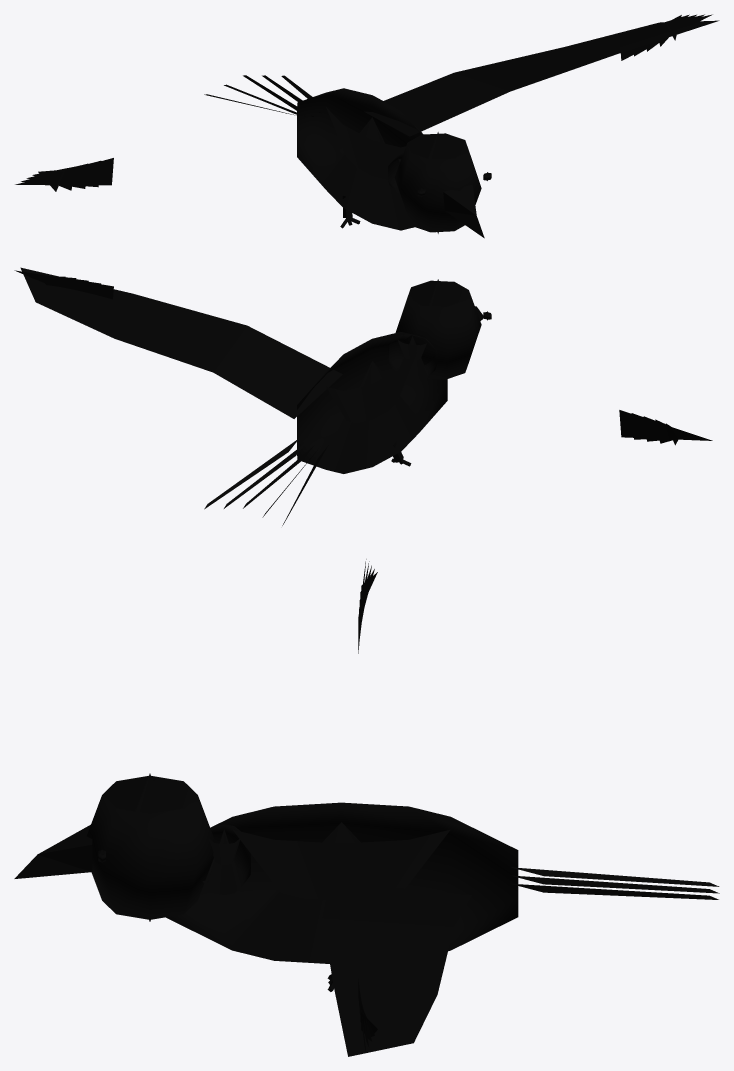
File: gliding_05.glb
3 views of the same model, one above another, from view 1: azimuth 30°, elevation 25°; view 2: azimuth 150°, elevation 25°; view 3: azimuth 270°, elevation 25° (orthographic). The views are drawn at different scales.
Parts seen in each view (by area): view 1: RaptorBody; view 2: RaptorBody; view 3: RaptorBody.
Part boxes in pixels (bbox=[...]): RaptorBody: bbox=[15, 14, 719, 238]; RaptorBody: bbox=[14, 267, 712, 525]; RaptorBody: bbox=[14, 559, 719, 1056].
Size of the model in its own units: 2.71 by 0.5046 by 1.62.
7 materials, 7 textured.
